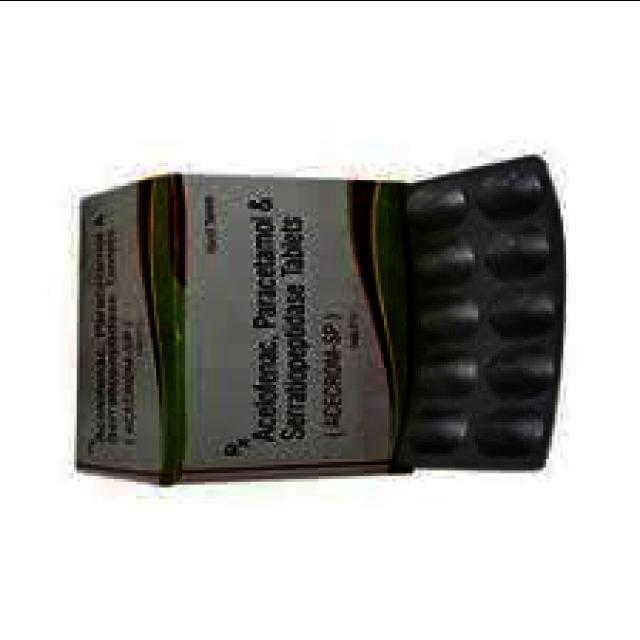authentic: (64, 164, 396, 499), (388, 145, 567, 478)
